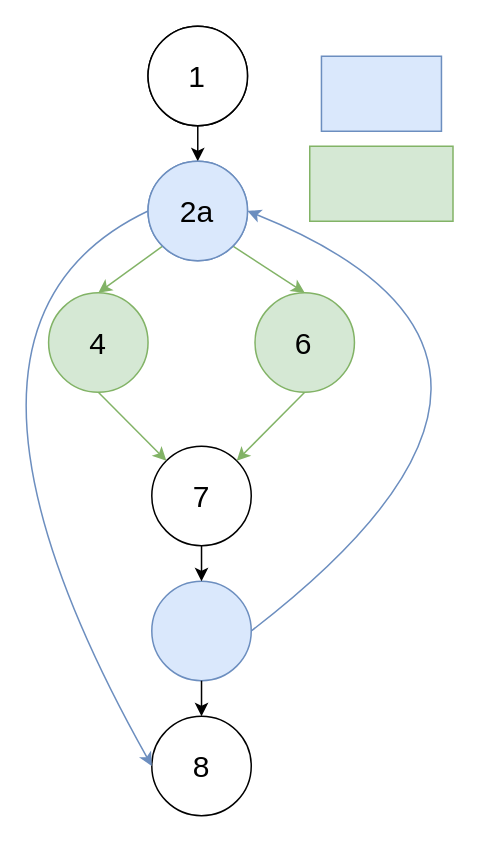
This 480x843 diagram has some shape labels left out. The centre of each missing label's shape, as x and y in pixels:
"2b" goes at (x=200, y=630).
"if-else" goes at (x=380, y=183).
"while" goes at (x=380, y=93).
